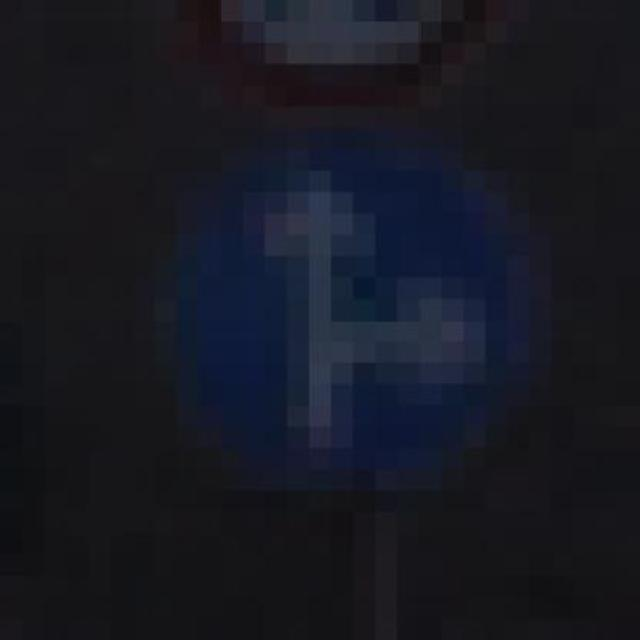Go Straight or Turn Right: (112, 126, 553, 532)
